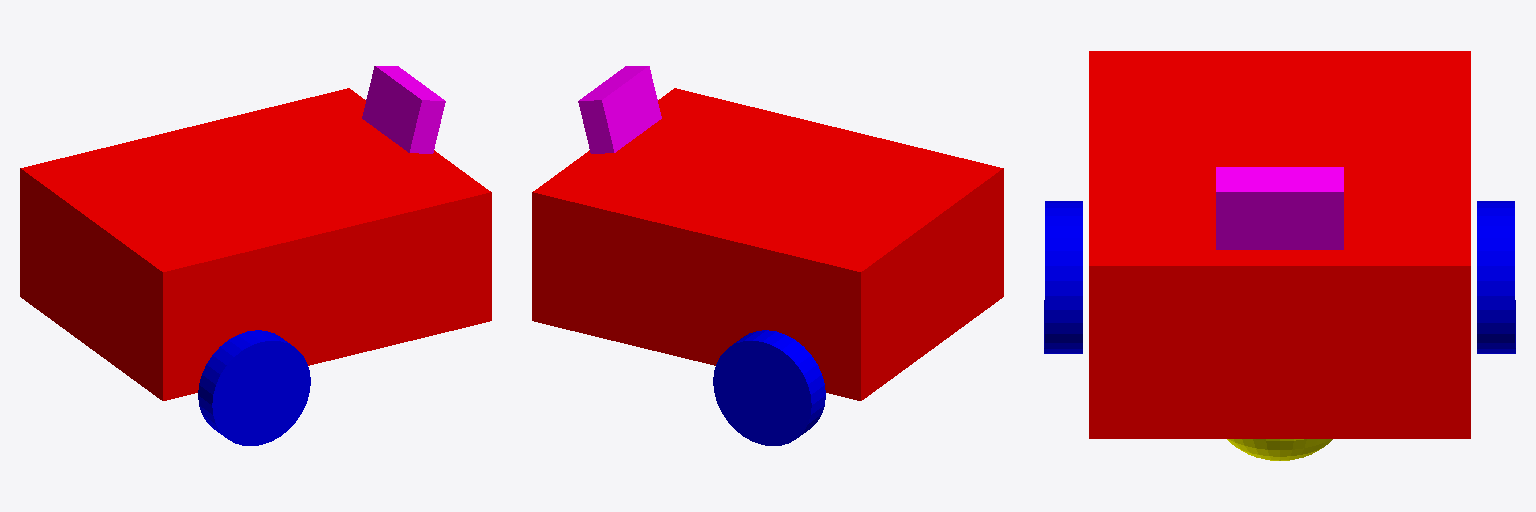
robot.urdf — diff_robot:
<robot name="diff_robot">
    <!-- Base Link -->
    <link name="base_link">
    </link>

    <!-- Base Joint (Fixed) -->
    <joint name="base_joint" type="fixed">
        <parent link="base_link"/>
        <child link="frame_link"/>
        <origin xyz="-0.1 0.0 0.0" rpy="0.0 0.0 0.0"/>
    </joint>

    <!-- Frame Link -->
    <link name="frame_link">
        <visual>
            <geometry>
                <box size="0.4 0.3 0.15"/>
            </geometry>
            <origin xyz="0.2 0.0 0.075" rpy="0.0 0.0 0.0"/>
            <material name="white">
                <color rgba="1.0 0.0 0.0 1.0"/>
            </material>
        </visual>
        <inertial>
            <mass value="6.0"/>
            <origin xyz="0.2 0.0 0.075"/>
            <inertia ixx="0.1" ixy="0.0" ixz="0.0" iyy="0.1" iyz="0.0" izz="0.1"/>
        </inertial>
        <collision>
            <geometry>
                <box size="0.4 0.3 0.15"/>
            </geometry>
            <origin xyz="0.2 0.0 0.075" rpy="0.0 0.0 0.0"/>
        </collision>
    </link>

    <!-- Left Wheel Joint -->
    <joint name="left_wheel_joint" type="continuous">
        <parent link="base_link"/>
        <child link="left_wheel_link"/>
        <origin xyz="0.0 0.17 0.0" rpy="-1.57 0.0 0.0"/>
        <axis xyz="0.0 0.0 1.0"/>
    </joint>

    <!-- Left Wheel Link -->
    <link name="left_wheel_link">
        <visual>
            <geometry>
                <cylinder radius="0.06" length="0.03"/>
            </geometry>
            <origin xyz="0.0 0.0 0.0" rpy="0 0.0 0.0"/>
            <material name="blue">
                <color rgba="0.0 0.0 1.0 1.0"/>
            </material>
        </visual>
        <inertial>
            <mass value="2.0"/>
            <origin xyz="0.0 0.0 0.0"/>
            <inertia ixx="0.1" ixy="0.0" ixz="0.0" iyy="0.1" iyz="0.0" izz="0.1"/>
        </inertial>
        <collision>
            <geometry>
                <cylinder radius="0.06" length="0.03"/>
            </geometry>
            <origin xyz="0.0 0.0 0.0" rpy="0 0.0 0.0"/>
        </collision>
    </link>

    <!-- Right Wheel Joint -->
    <joint name="right_wheel_joint" type="continuous">
        <parent link="base_link"/>
        <child link="right_wheel_link"/>
        <origin xyz="0.0 -0.17 0.0" rpy="1.57 0.0 0.0"/>
        <axis xyz="0.0 0.0 1.0"/>
    </joint>

    <!-- Right Wheel Link -->
    <link name="right_wheel_link">
        <visual>
            <geometry>
                <cylinder radius="0.06" length="0.03"/>
            </geometry>
            <origin xyz="0.0 0.0 0.0" rpy="0 0.0 0.0"/>
            <material name="blue">
                <color rgba="0.0 0.0 1.0 1.0"/>
            </material>
        </visual>
        <inertial>
            <mass value="2.0"/>
            <origin xyz="0.0 0.0 0.0"/>
            <inertia ixx="0.1" ixy="0.0" ixz="0.0" iyy="0.1" iyz="0.0" izz="0.1"/>
        </inertial>
        <collision>
            <geometry>
                <cylinder radius="0.06" length="0.03"/>
            </geometry>
            <origin xyz="0.0 0.0 0.0" rpy="0 0.0 0.0"/>
        </collision>
    </link>

    <!-- Caster Joint -->
    <joint name="caster_joint" type="continuous">
        <parent link="base_link"/>
        <child link="caster_link"/>
        <origin xyz="0.2 0.0 0.0"/>
        <axis xyz="1.0 1.0 1.0"/>
    </joint>

    <!-- Caster Link -->
    <link name="caster_link">
        <visual>
            <geometry>
                <sphere radius="0.06"/>
            </geometry>
            <origin xyz="0.0 0.0 0.0"/>
            <material name="yellow">
                <color rgba="1.0 1.0 0.0 1.0"/>
            </material>
        </visual>
        <inertial>
            <mass value="5"/>
            <origin xyz="0.0 0.0 0.0"/>
            <inertia ixx="1e-6" ixy="0" ixz="0" iyy="1e-6" iyz="0" izz="1e-6"/>
        </inertial>
        <collision>
            <geometry>
                <sphere radius="0.06"/>
            </geometry>
            <origin xyz="0.0 0.0 0.0"/>
        </collision>
    </link>

    <!-- Camera Link -->
    <link name="camera_link">
        <visual>
            <geometry>
                <box size="0.03 0.1 0.06"/>
            </geometry>
            <origin xyz="0.0 0.0 0.0"/>
            <material name="Purple">
                <color rgba="1.0 0.0 1.0 1.0"/>
            </material>
        </visual>
        <inertial>
            <mass value="1e-5" />
            <origin xyz="0 0 0" rpy="0 0 0"/>
            <inertia ixx="1e-6" ixy="0" ixz="0" iyy="1e-6" iyz="0" izz="1e-6" />
        </inertial>
        <collision>
            <geometry>
                <box size="0.03 0.1 0.06"/>
            </geometry>
            <origin xyz="0.0 0.0 0.0"/>
        </collision>
    </link>

    <!-- Camera Joint (Fixed) -->
    <joint name="camera_joint" type="fixed">
        <parent link="base_link"/>
        <child link="camera_link"/>
        <origin xyz="0.28 0.0 0.19" rpy="0.0 0.26 0.0"/>
    </joint>

    <!-- Left Wheel Transmission -->
    <transmission name="tran1">
        <type>transmission_interface/SimpleTransmission</type>
        <joint name="left_wheel_joint">
            <hardwareInterface>hardware_interface/EffortJointInterface</hardwareInterface>
        </joint>
        <actuator name="motor1">
            <hardwareInterface>hardware_interface/EffortJointInterface</hardwareInterface>
            <mechanicalReduction>1</mechanicalReduction>
        </actuator>
    </transmission>

    <!-- Right Wheel Transmission -->
    <transmission name="tran2">
        <type>transmission_interface/SimpleTransmission</type>
        <joint name="right_wheel_joint">
            <hardwareInterface>hardware_interface/EffortJointInterface</hardwareInterface>
        </joint>
        <actuator name="motor2">
            <hardwareInterface>hardware_interface/EffortJointInterface</hardwareInterface>
            <mechanicalReduction>1</mechanicalReduction>
        </actuator>
    </transmission>

    <!-- Gazebo Visual Properties -->
    <gazebo reference="frame_link">
        <material>Gazebo/Orange</material>
    </gazebo>
    <gazebo reference="left_wheel_link">
        <material>Gazebo/Blue</material>
    </gazebo>
    <gazebo reference="right_wheel_link">
        <material>Gazebo/Blue</material>
    </gazebo>
    <gazebo reference="caster_link">
        <material>Gazebo/Yellow</material>
    </gazebo>

    <!-- Camera Sensor -->
    <gazebo reference="camera_link">
        <material>Gazebo/Purple</material>
        <sensor type="camera" name="camera1">
            <update_rate>30.0</update_rate>
            <camera name="head">
                <horizontal_fov>1.3962634</horizontal_fov>
                <image>
                    <width>640</width>
                    <height>480</height>
                    <format>R8G8B8</format>
                </image>
                <clip>
                    <near>0.02</near>
                    <far>300</far>
                </clip>
                <noise>
                    <type>gaussian</type>
                    <mean>0.0</mean>
                    <stddev>0.007</stddev>
                </noise>
            </camera>
            <plugin name="camera_controller" filename="libgazebo_ros_camera.so">
                <alwaysOn>true</alwaysOn>
                <updateRate>0.0</updateRate>
                <cameraName>my_robot/camera1</cameraName>
                <imageTopicName>image_raw</imageTopicName>
                <cameraInfoTopicName>camera_info</cameraInfoTopicName>
                <frameName>camera_link</frameName>
                <hackBaseline>0.07</hackBaseline>
                <distortionK1>0.0</distortionK1>
                <distortionK2>0.0</distortionK2>
                <distortionK3>0.0</distortionK3>
                <distortionT1>0.0</distortionT1>
                <distortionT2>0.0</distortionT2>
            </plugin>
        </sensor>
    </gazebo>

    <!-- Gazebo ROS Control Plugin -->
    <gazebo>
        <plugin name="gazebo_ros_control" filename="libgazebo_ros_control.so">
            <robotNamespace>/my_diffbot</robotNamespace>
        </plugin>
    </gazebo>

</robot>

--- What the picture shows (computed from the rendered views, not written in the file) ---
The picture shows the robot from 3 angles, left to right: view 1: azimuth 30°, elevation 25°; view 2: azimuth 150°, elevation 25°; view 3: azimuth 270°, elevation 25°; orthographic projection.
Robot: diff_robot — 6 links, 5 joints (3 continuous, 2 fixed); root link base_link; default pose: all joints at 0.
Links seen in each view (by area): view 1: frame_link, right_wheel_link, camera_link; view 2: frame_link, left_wheel_link, camera_link; view 3: frame_link, camera_link, left_wheel_link, right_wheel_link, caster_link.
Boxes of the visible links, x1,y1,x2,y2 form: frame_link: (20,88,491,400); right_wheel_link: (198,330,310,445); camera_link: (362,66,445,153); frame_link: (532,88,1003,400); left_wheel_link: (713,330,825,445); camera_link: (578,66,661,153); frame_link: (1089,51,1470,438); camera_link: (1216,167,1343,249); left_wheel_link: (1477,201,1515,353); right_wheel_link: (1044,201,1082,353); caster_link: (1227,439,1332,460).
Bounding box of the posed robot: 0.4022 × 0.3701 × 0.2829 m (x, y, z).
Geometry: primitives only (box / cylinder / sphere), no mesh files.